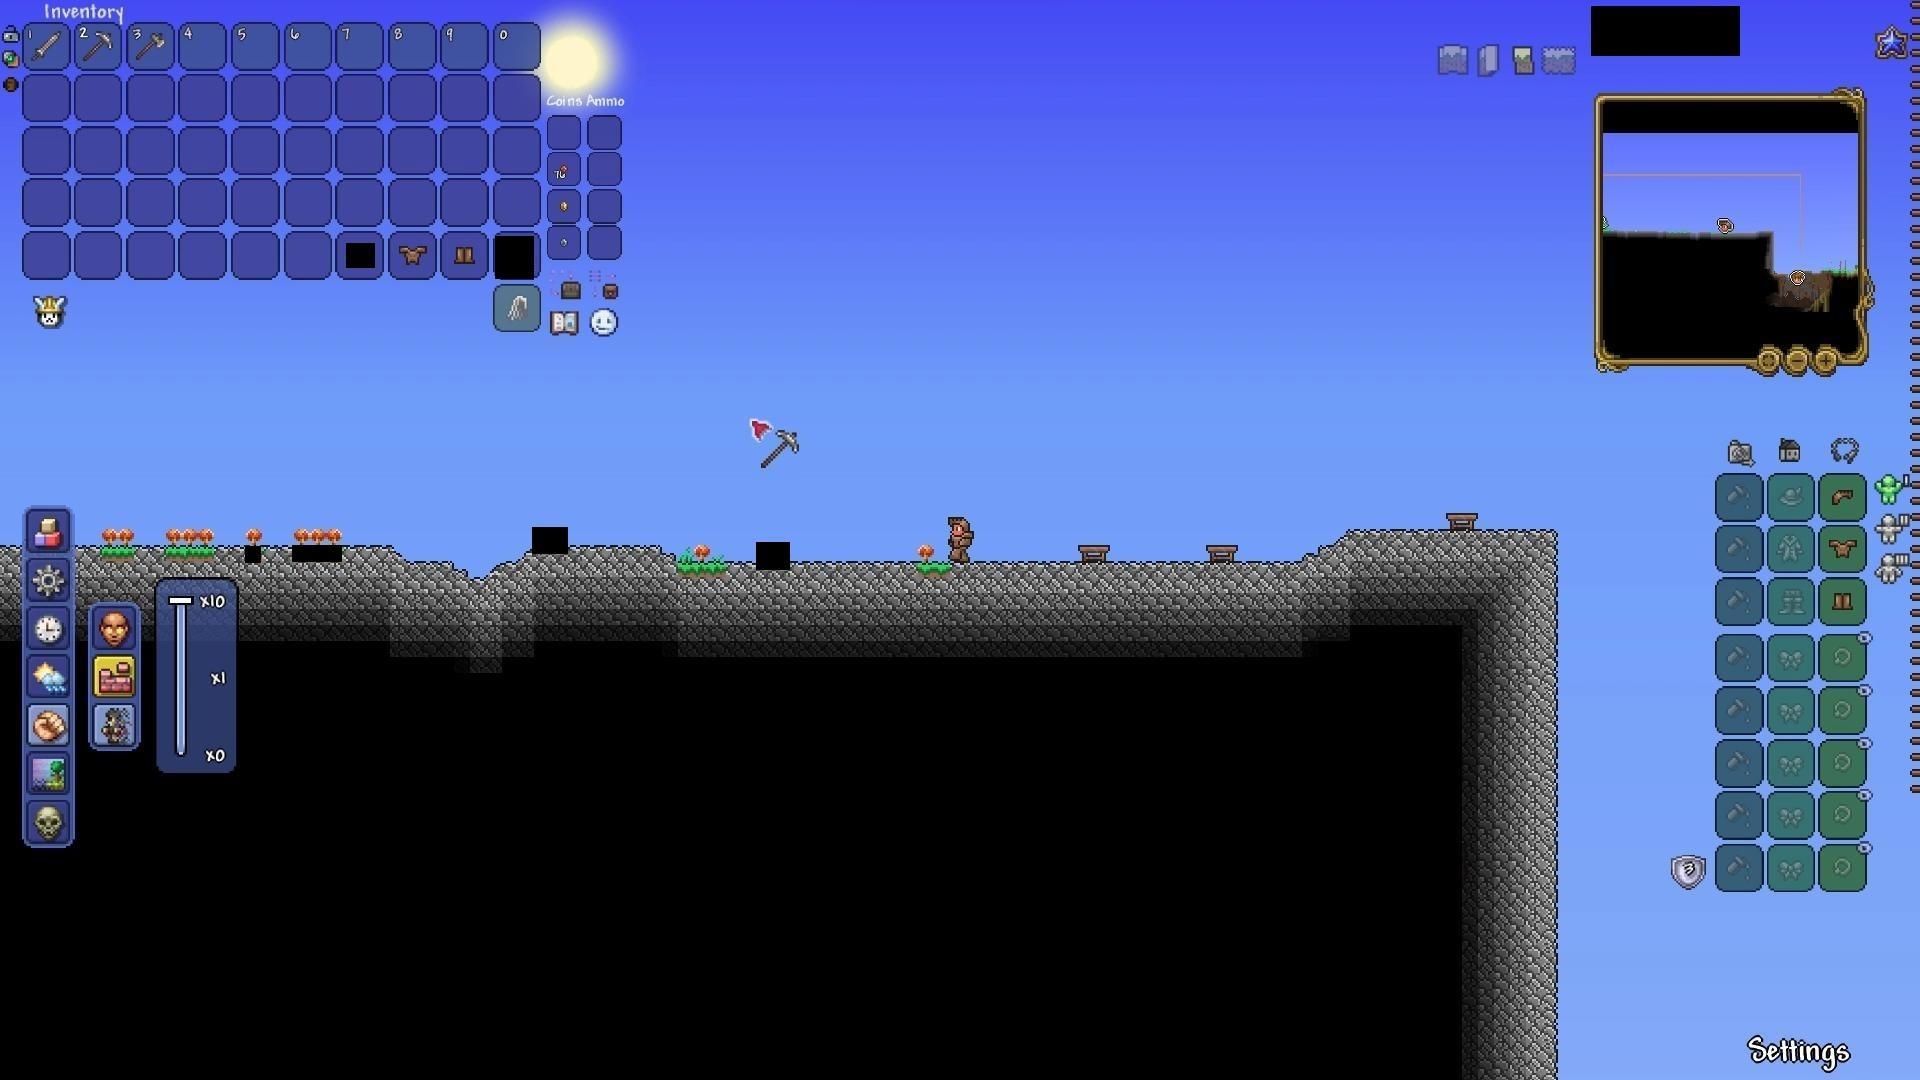breastplate: (397, 243, 429, 264), (1830, 537, 1859, 558)
dirt: (680, 558, 727, 578), (166, 545, 212, 562), (918, 560, 951, 579), (103, 546, 135, 563)
helmet: (1829, 484, 1857, 509)
legs: (1832, 588, 1857, 615), (451, 241, 476, 265)
workbench: (1444, 508, 1480, 533), (1204, 543, 1237, 567), (1077, 545, 1112, 567)
